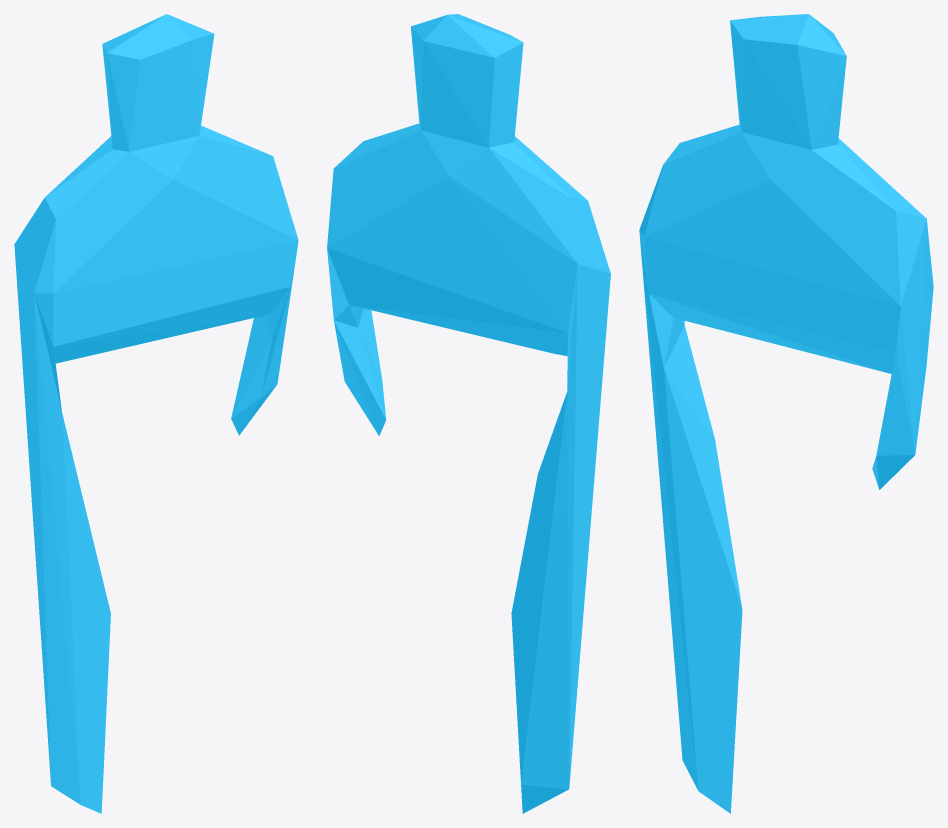
The model's file is travis_synth.glb.
3 renders of one model, left to right at view 1: azimuth 30°, elevation 25°; view 2: azimuth 150°, elevation 25°; view 3: azimuth 330°, elevation 25°, orthographic. The views are drawn at different scales.
Parts seen in each view (by area): view 1: Travis_Synth; view 2: Travis_Synth; view 3: Travis_Synth.
Part boxes in pixels (x1,y1,x2,y2): Travis_Synth: (14, 14, 298, 813); Travis_Synth: (327, 14, 610, 813); Travis_Synth: (639, 14, 933, 813).
Bounding box in the file's own units: 0.7343 × 2.13 × 0.1801.
